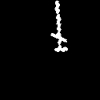double_crochet: (51, 1, 67, 51)
